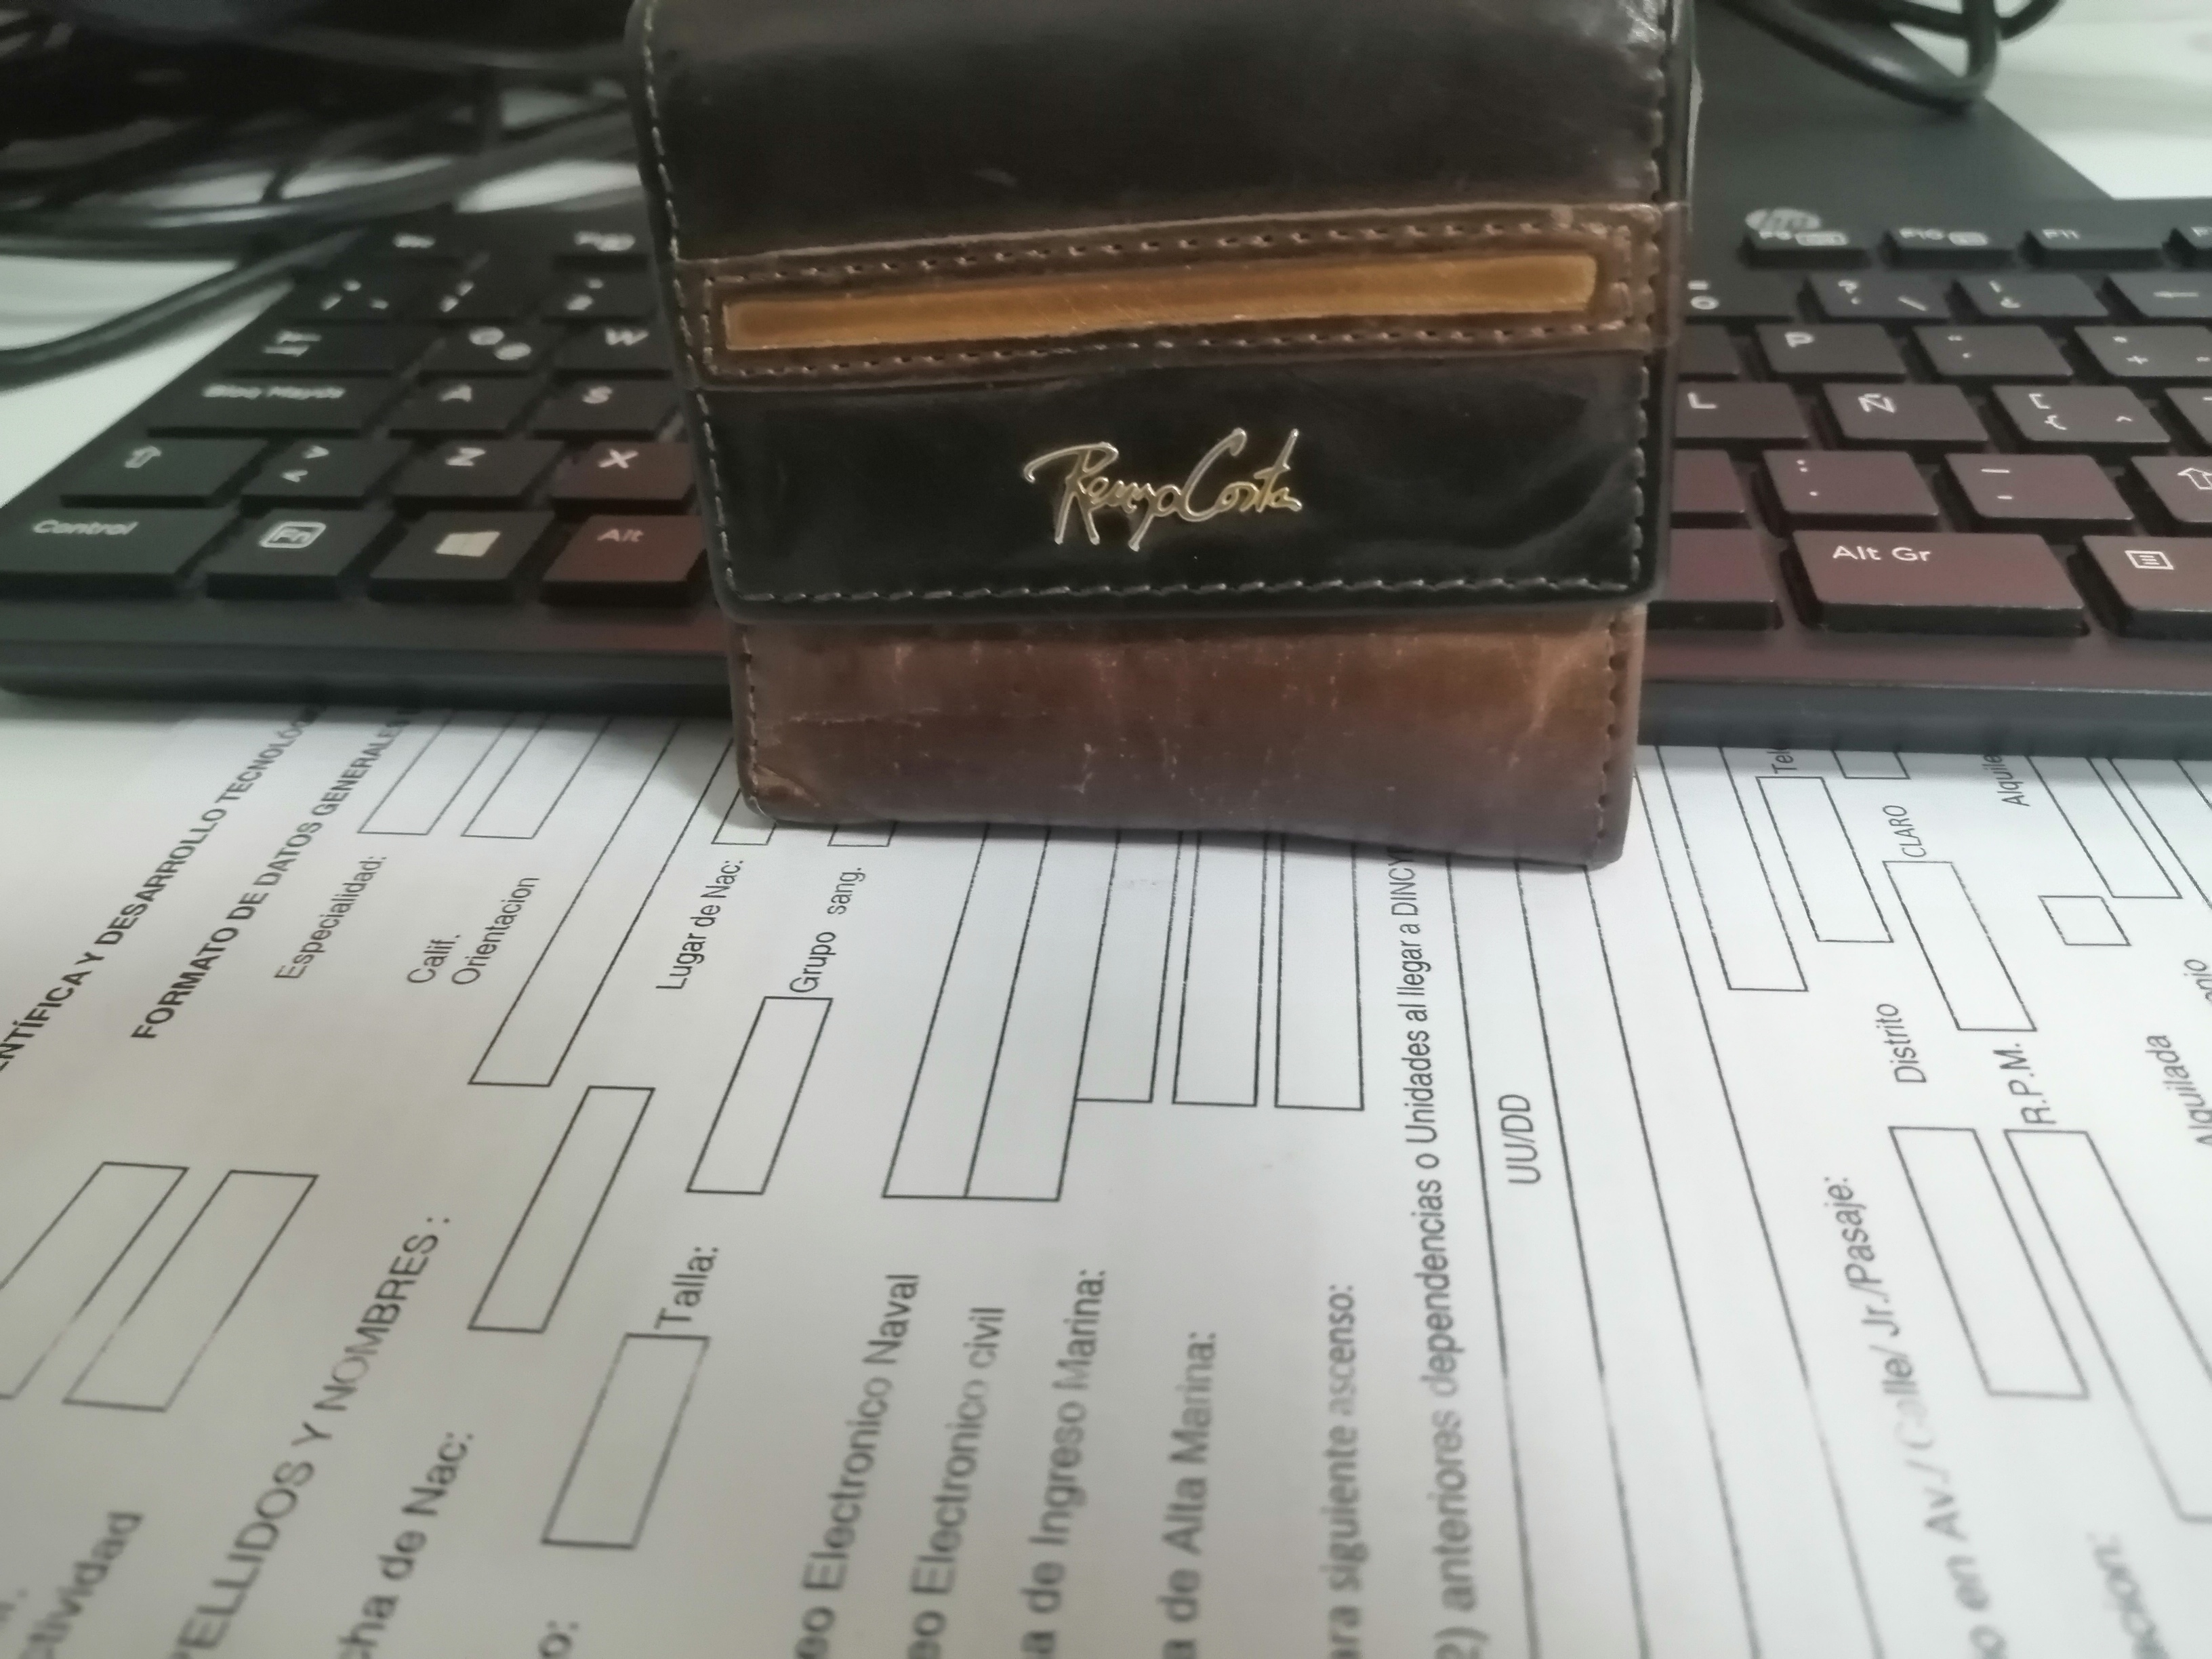monedero: (601, 3, 1731, 892)
